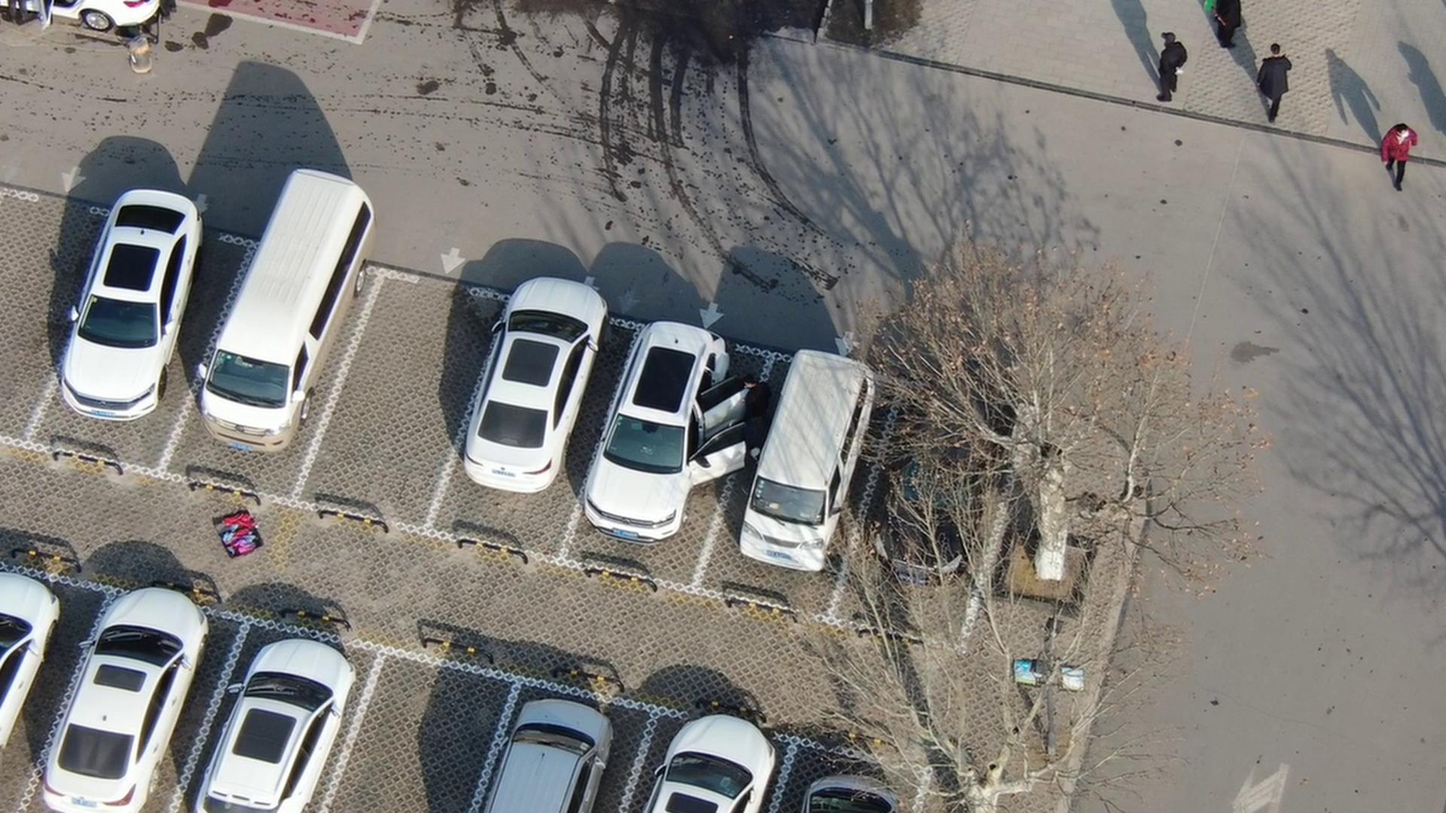human: (1243, 45, 1290, 127), (1370, 125, 1413, 202), (1149, 29, 1187, 110), (1203, 1, 1240, 58)
